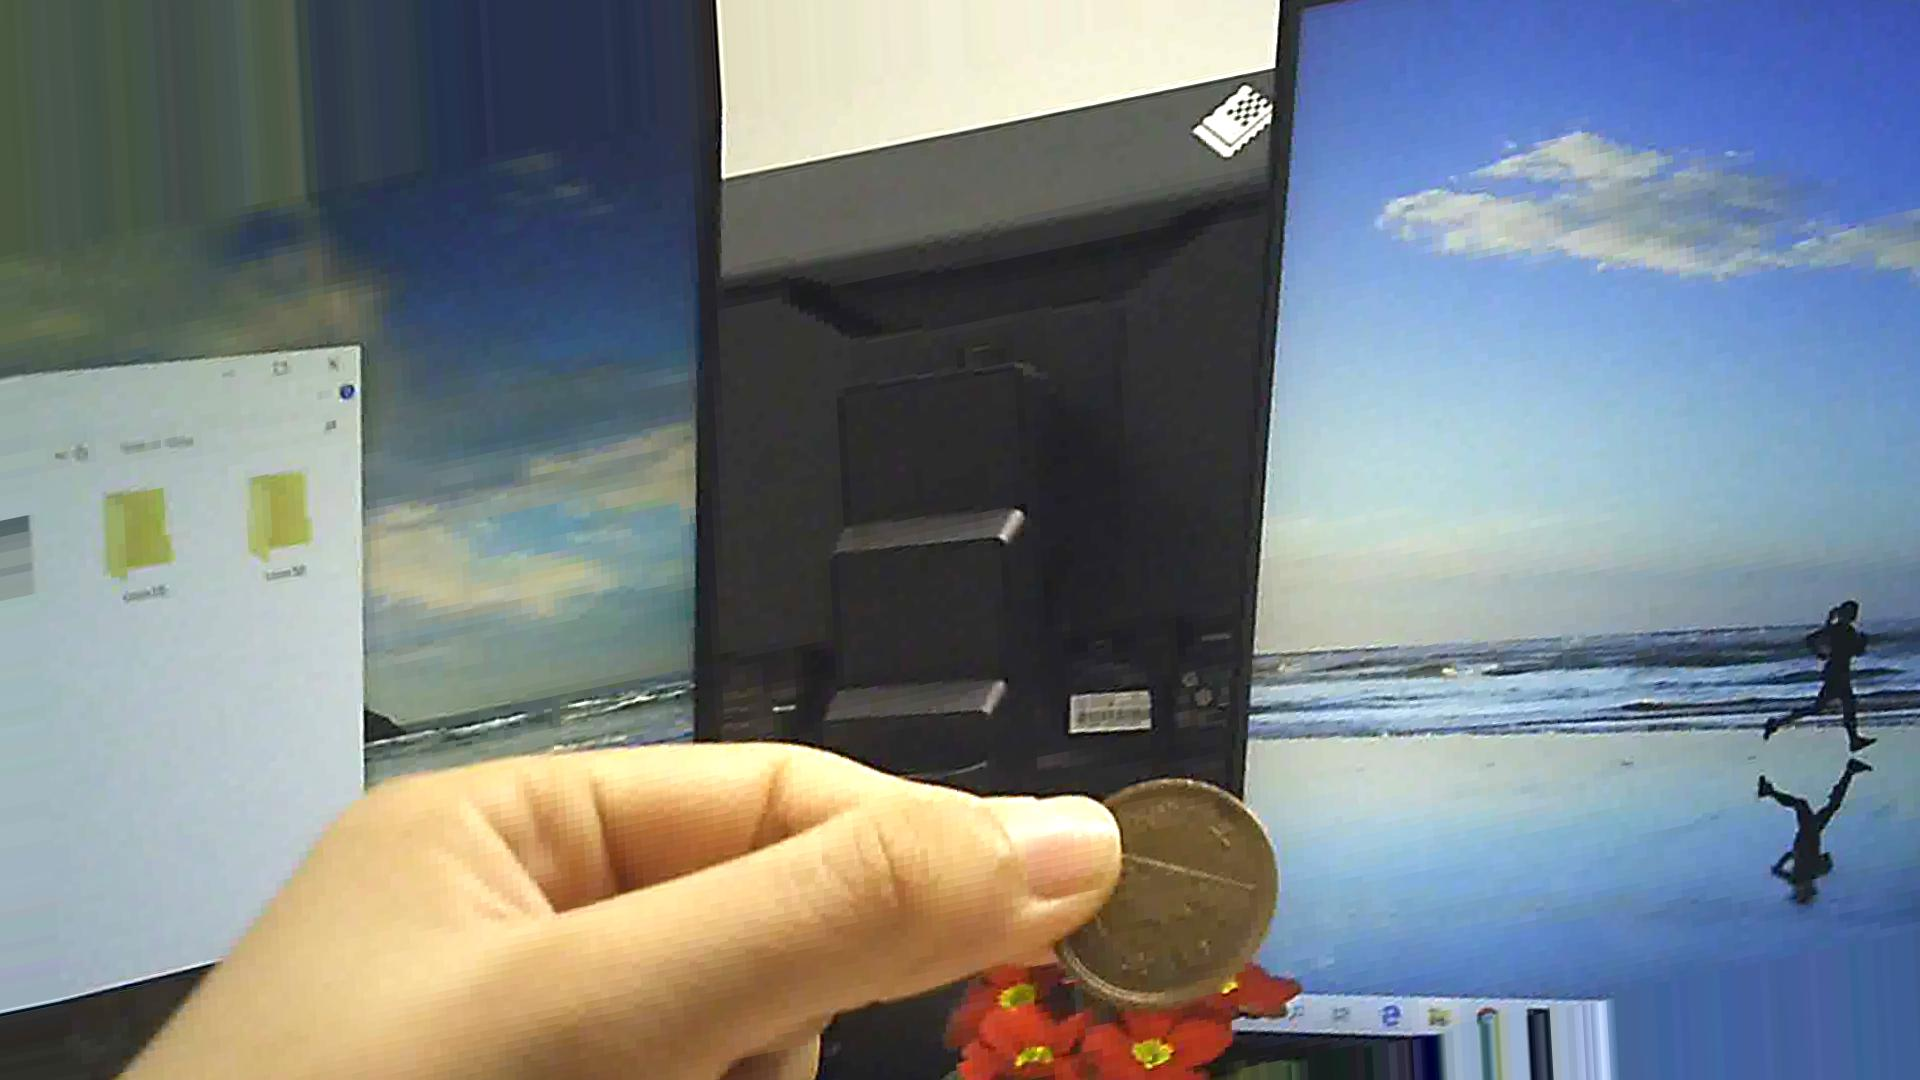10 Yen: (1002, 771, 1287, 1000)
